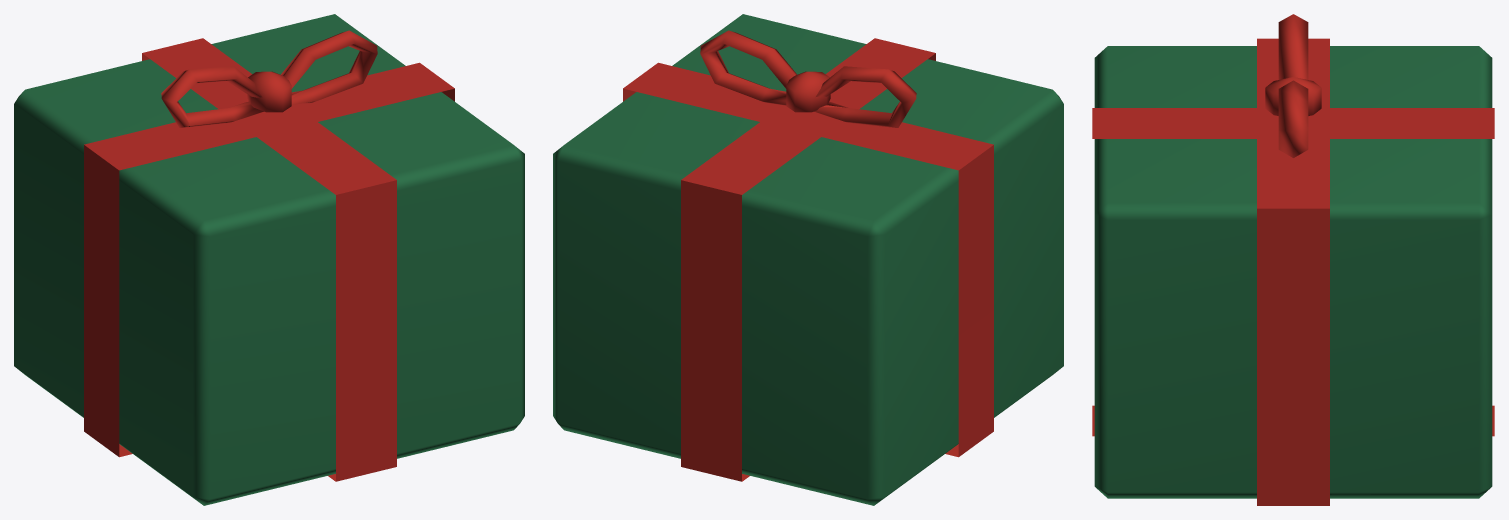
Rendered from cargo_present_green.glb.
3 renders of one model, left to right at view 1: azimuth 30°, elevation 25°; view 2: azimuth 150°, elevation 25°; view 3: azimuth 270°, elevation 25°, orthographic. The views are drawn at different scales.
Visible parts, largest first — view 1: cargo_present_green; view 2: cargo_present_green; view 3: cargo_present_green.
Part boxes in pixels (x1,y1,x2,y2): cargo_present_green: (14, 14, 524, 505); cargo_present_green: (553, 14, 1063, 505); cargo_present_green: (1092, 14, 1494, 505).
Bounding box in the file's own units: 0.516 × 0.5189 × 0.516.
